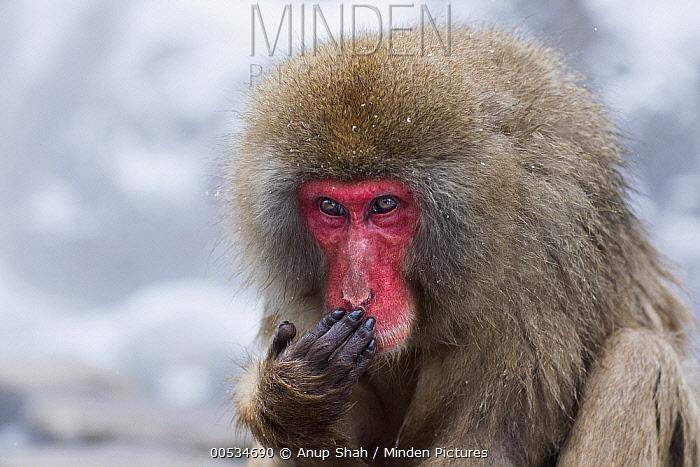monkey: (218, 31, 700, 467)
